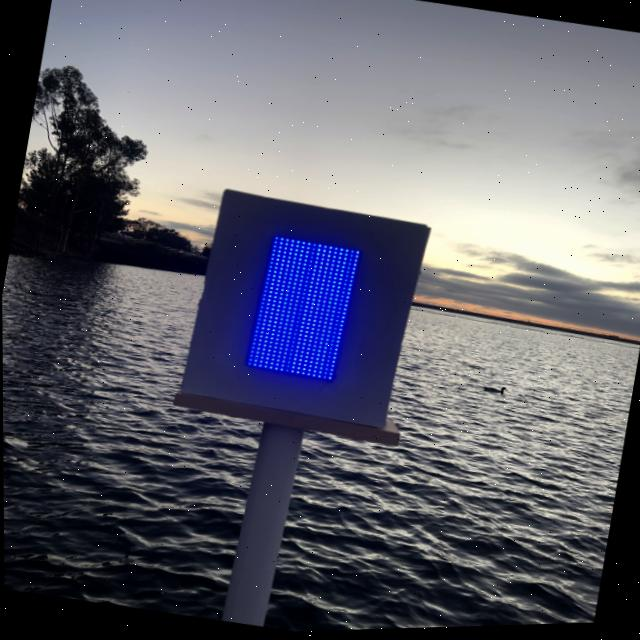led: (217, 203, 401, 436)
